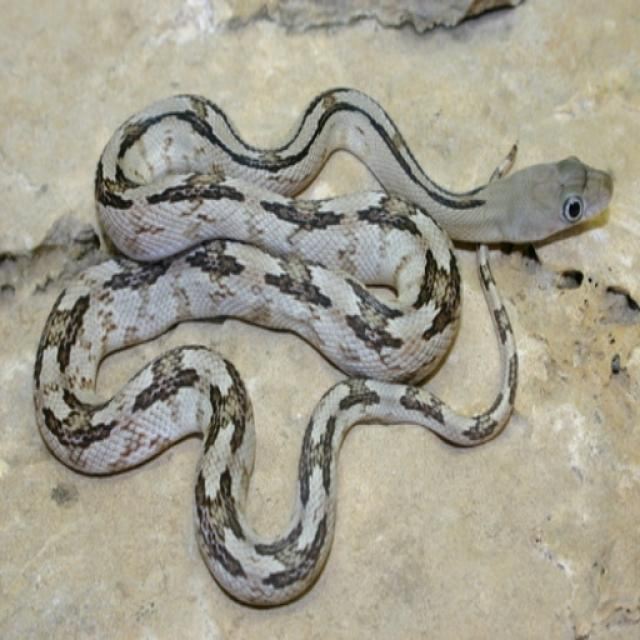snake: (31, 66, 620, 624)
